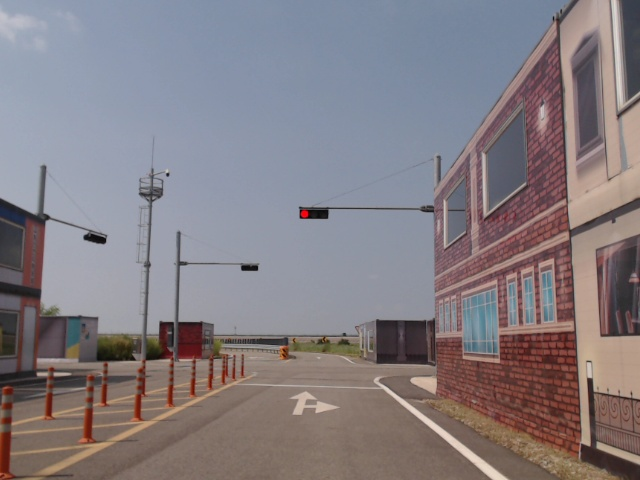red_3: (299, 209, 328, 218)
